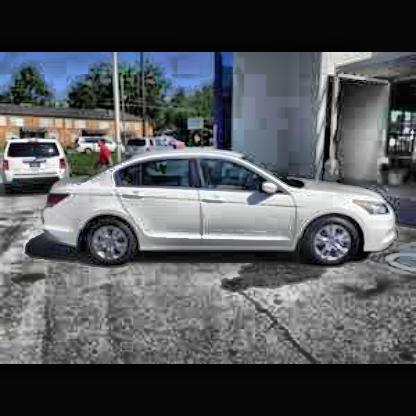Honda Accord Sedan 2012: (44, 148, 400, 270)
